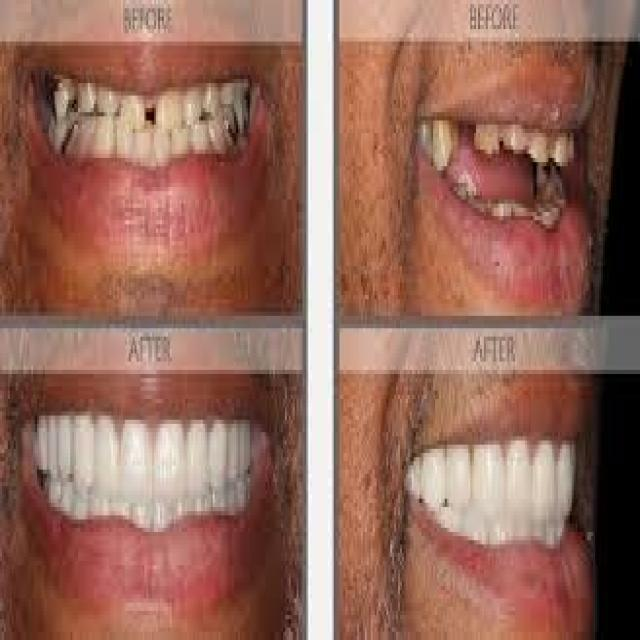tooth: (119, 403, 150, 499), (154, 407, 186, 499), (472, 436, 506, 520), (92, 403, 121, 495), (505, 428, 533, 520), (533, 428, 558, 520), (187, 403, 209, 495), (72, 403, 94, 491), (445, 436, 470, 512), (53, 395, 74, 478), (154, 91, 189, 133), (558, 445, 574, 536), (213, 408, 230, 490), (421, 449, 445, 507), (472, 112, 502, 158), (433, 116, 453, 174), (96, 121, 115, 162), (529, 129, 548, 162), (156, 129, 172, 166), (119, 120, 133, 158)
